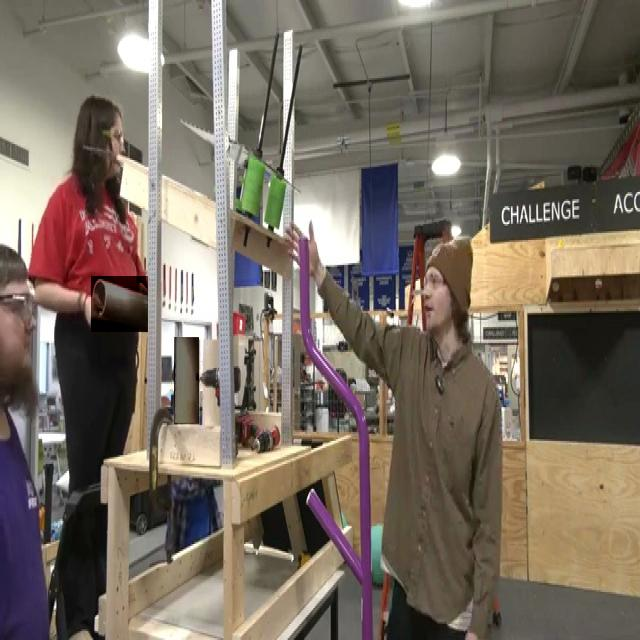Coral: (91, 276, 148, 332), (174, 338, 199, 426)
